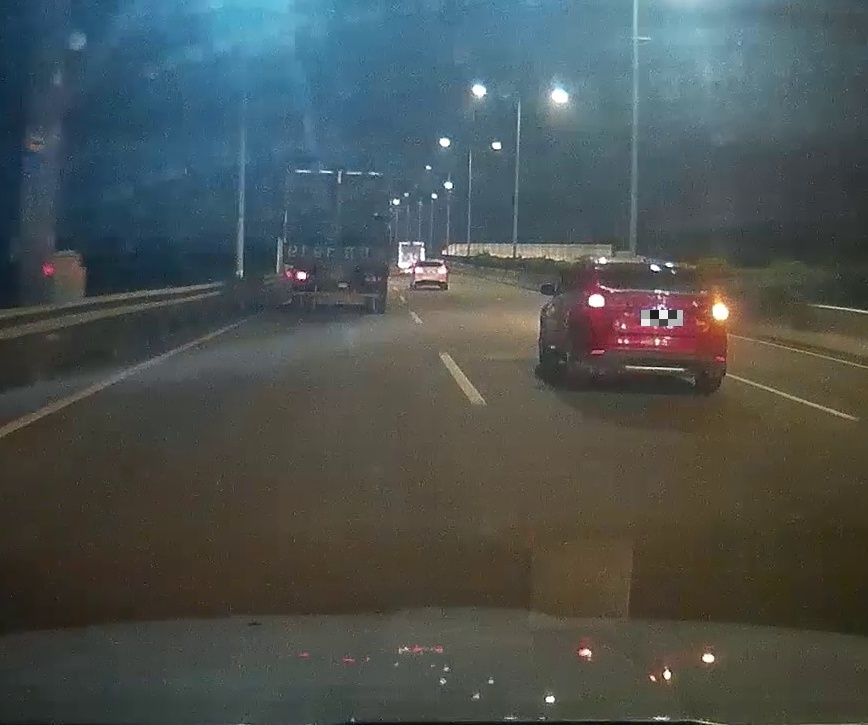L_light: (586, 292, 612, 310), (293, 271, 311, 281)
R_light: (704, 301, 728, 320), (365, 273, 382, 282)
T_light: (644, 264, 667, 271), (330, 173, 348, 178)
night-left: (284, 168, 389, 314)
night-right: (577, 256, 729, 390)
plate_1: (641, 310, 683, 326)
